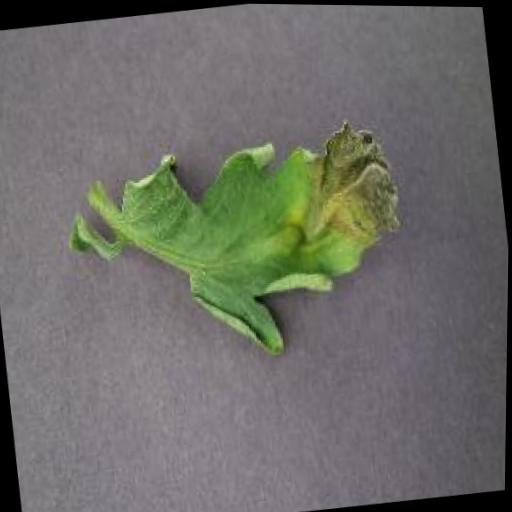Late Blight: (105, 115, 422, 371)
